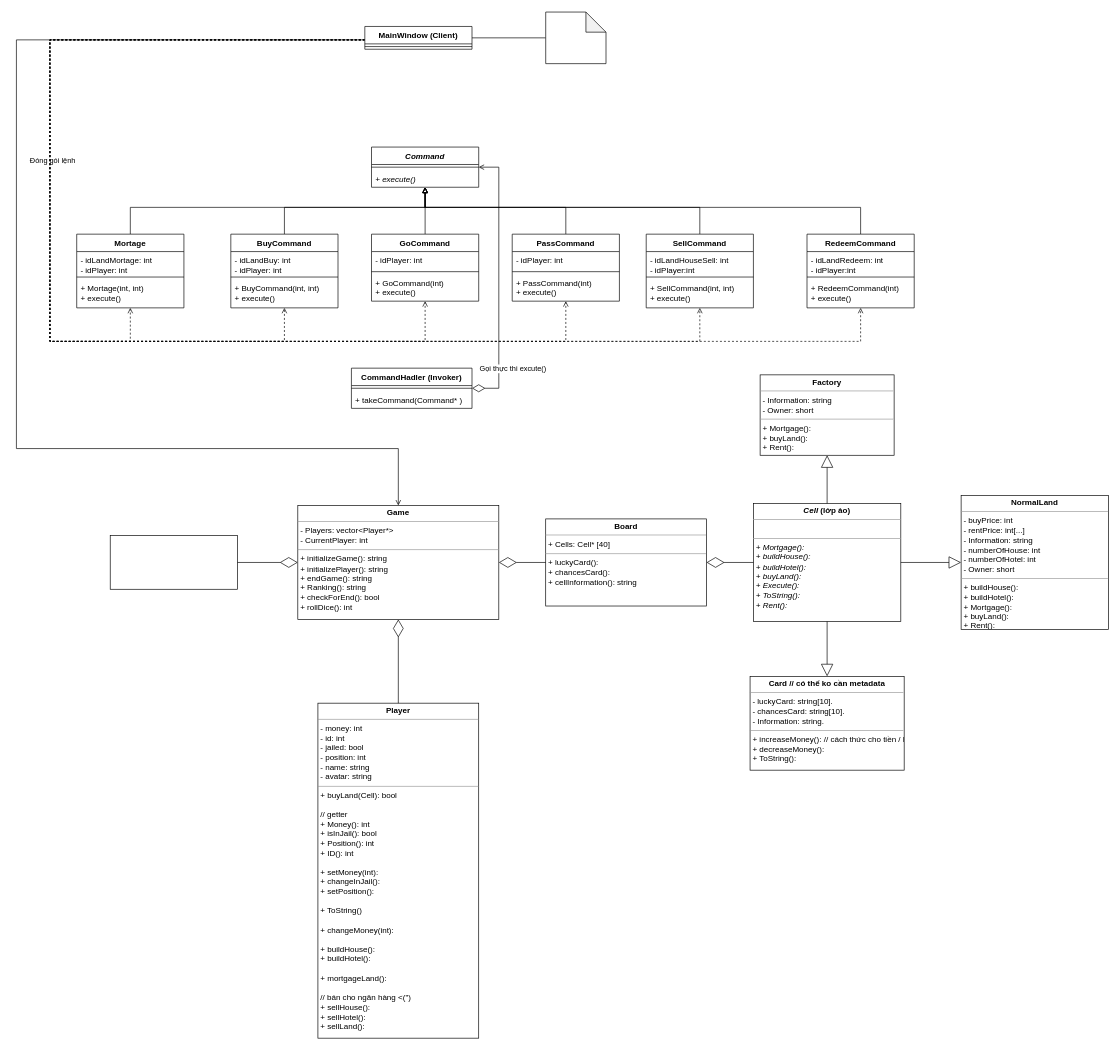
Image size: 1120x1050. Some labels were removed from this diagram. Each missing label, with the centre of its shape:
"Dice + Roll(): int" belongs at [174,562].
"Lớp MainWindow thuộc layer UI" belongs at [575,37].
